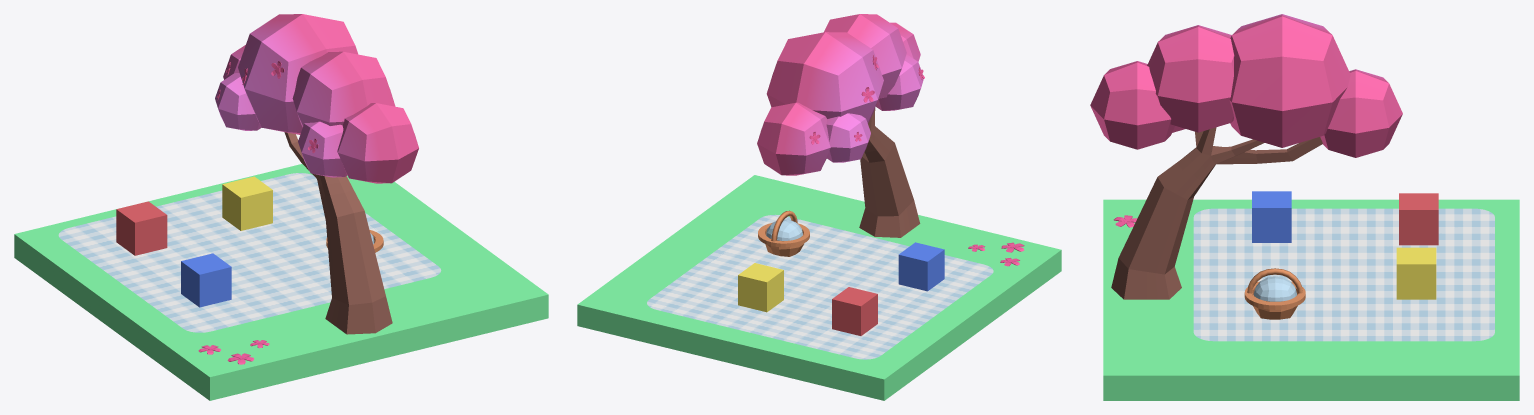
Rendered from roomportfoliov4.glb.
3 renders of one model, left to right at view 1: azimuth 30°, elevation 25°; view 2: azimuth 150°, elevation 25°; view 3: azimuth 270°, elevation 25°, orthographic. The views are drawn at different scales.
Visible parts, largest first — view 1: trunkbranches, Cube.002_Raycaster_Pointer_Hover, Cube.003_Raycaster_Pointer_Hover, Cube.001_Raycaster_Pointer_Hover; view 2: trunkbranches, Cube.001_Raycaster_Pointer_Hover, Cube.003_Raycaster_Pointer_Hover, Cube.002_Raycaster_Pointer_Hover; view 3: trunkbranches, Cube.003_Raycaster_Pointer_Hover, Cube.002_Raycaster_Pointer_Hover, Cube.001_Raycaster_Pointer_Hover.
Part boxes in pixels (left/top/right/bottom): trunkbranches: left=14, top=14, right=548, bottom=400; Cube.002_Raycaster_Pointer_Hover: left=116, top=201, right=167, bottom=255; Cube.003_Raycaster_Pointer_Hover: left=222, top=176, right=272, bottom=230; Cube.001_Raycaster_Pointer_Hover: left=181, top=253, right=231, bottom=307; trunkbranches: left=577, top=14, right=1061, bottom=400; Cube.001_Raycaster_Pointer_Hover: left=898, top=242, right=944, bottom=291; Cube.003_Raycaster_Pointer_Hover: left=738, top=263, right=783, bottom=312; Cube.002_Raycaster_Pointer_Hover: left=832, top=287, right=877, bottom=335; trunkbranches: left=1090, top=14, right=1519, bottom=400; Cube.003_Raycaster_Pointer_Hover: left=1396, top=247, right=1436, bottom=299; Cube.002_Raycaster_Pointer_Hover: left=1399, top=193, right=1438, bottom=245; Cube.001_Raycaster_Pointer_Hover: left=1252, top=191, right=1291, bottom=242.
Size of the model in its own units: 14.72 by 11.72 by 15.19.
16 materials, 2 textured.
